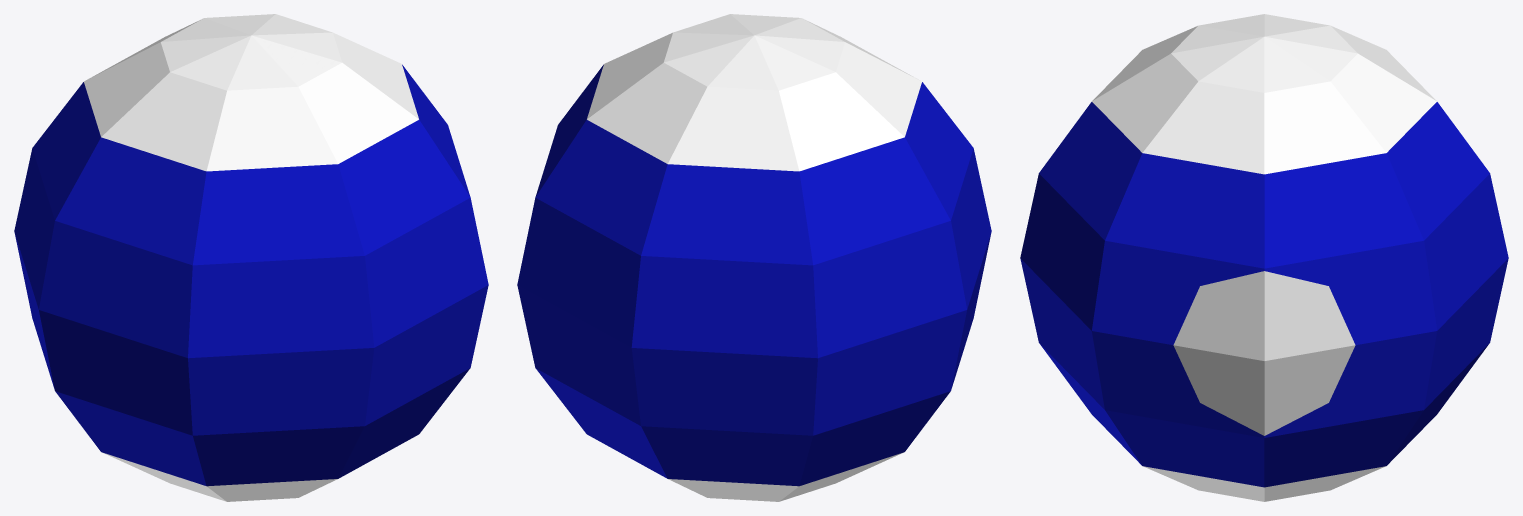
Rendered from azul2.obj.
The picture shows the model from 3 angles, left to right: view 1: azimuth 30°, elevation 25°; view 2: azimuth 150°, elevation 25°; view 3: azimuth 270°, elevation 25°; orthographic projection.
Visible parts, largest first — view 1: all_balls.005; view 2: all_balls.005; view 3: all_balls.005.
Boxes of the visible parts, x1=… form: all_balls.005: x1=14, y1=14, x2=488, y2=501; all_balls.005: x1=517, y1=14, x2=991, y2=501; all_balls.005: x1=1020, y1=14, x2=1508, y2=501.
Bounding box in the file's own units: 0.3459 × 0.3459 × 0.3459.
